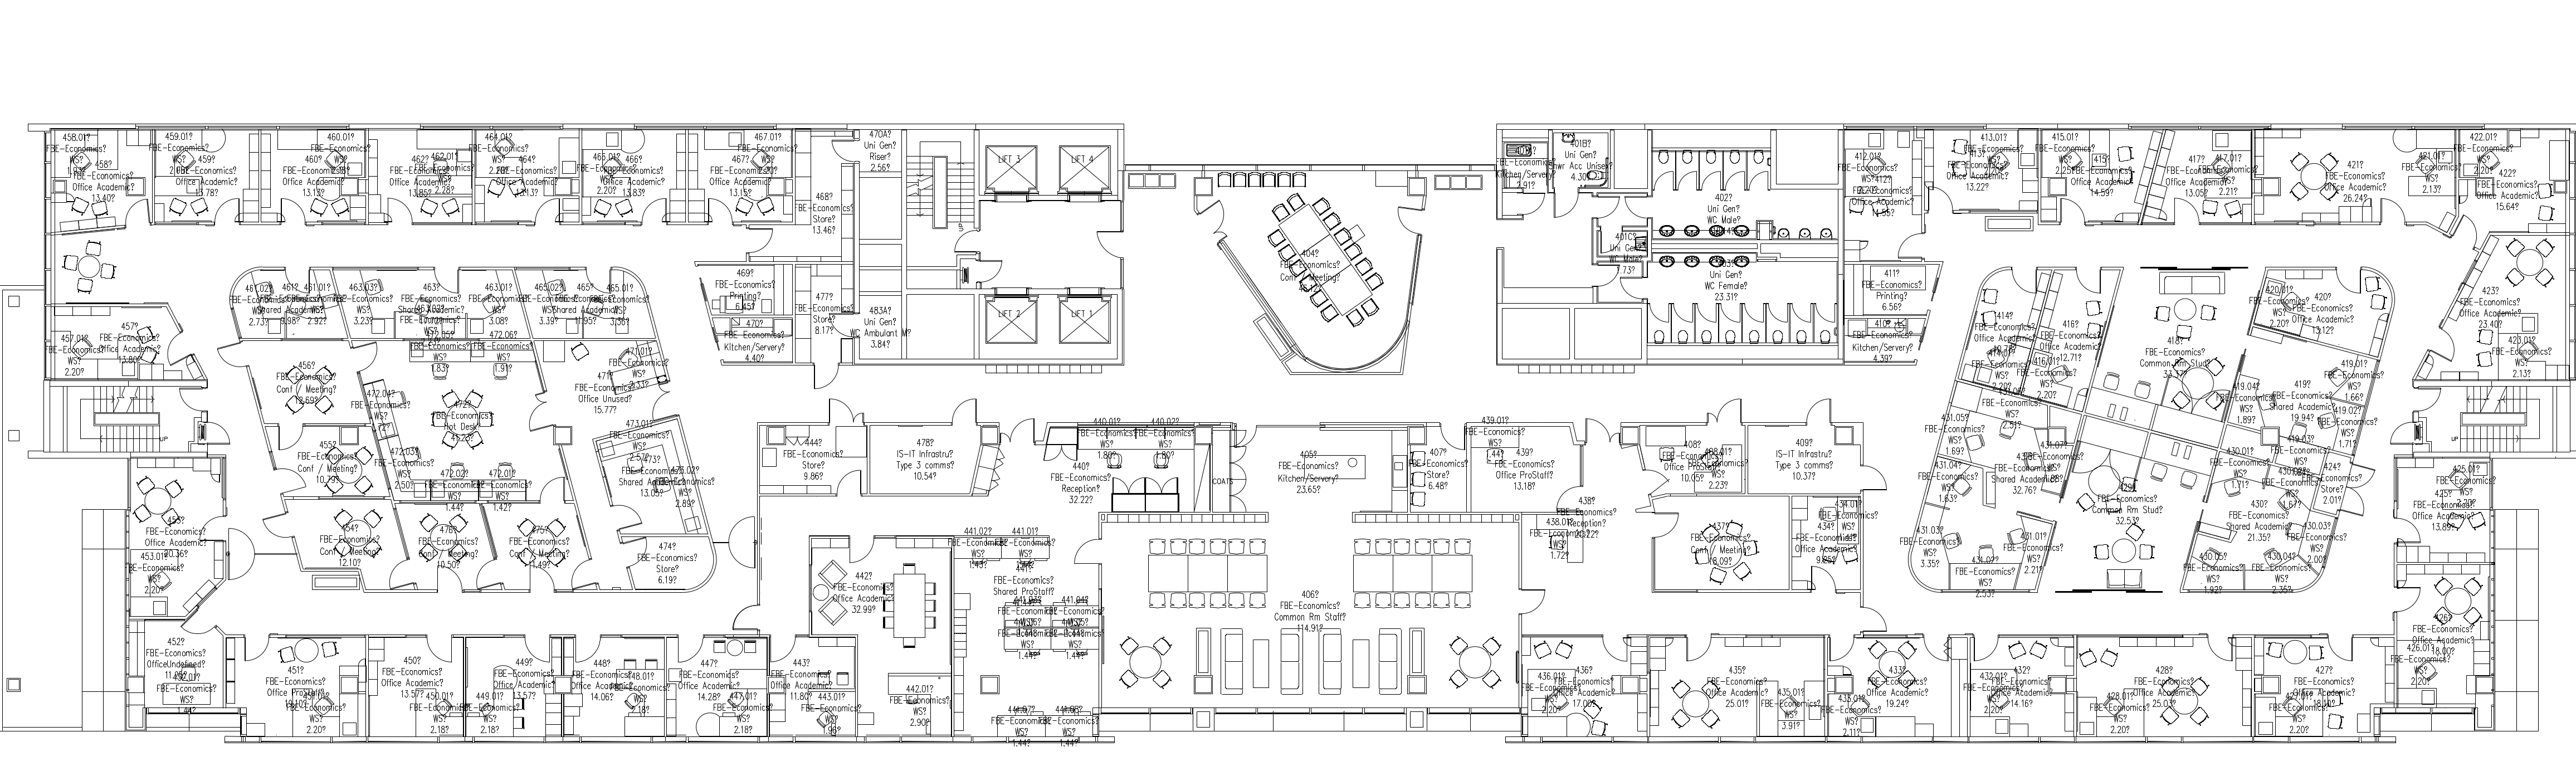room: (1074, 513, 1546, 713), (1124, 158, 1493, 376), (532, 337, 716, 593), (348, 339, 578, 503), (2083, 266, 2267, 449), (951, 536, 1102, 743), (808, 534, 954, 743), (2180, 450, 2354, 595), (2249, 123, 2461, 240), (2412, 232, 2569, 388), (2224, 324, 2380, 459), (1648, 635, 1827, 743), (1924, 378, 2085, 498), (2075, 635, 2256, 741), (1648, 248, 1842, 347), (1648, 148, 1842, 243), (1043, 416, 1232, 513), (126, 455, 228, 620), (1899, 501, 2067, 598), (1230, 421, 1408, 511), (2251, 635, 2397, 743), (1825, 635, 1970, 743), (1635, 495, 1792, 593), (225, 635, 368, 743), (2394, 562, 2495, 713), (591, 413, 716, 536), (2021, 266, 2124, 414), (263, 496, 419, 593), (330, 268, 534, 340), (1515, 635, 1649, 743), (1745, 396, 1888, 495), (217, 339, 375, 427), (2249, 266, 2395, 362), (2037, 123, 2167, 227), (1920, 123, 2040, 233), (2454, 123, 2569, 235), (1955, 266, 2054, 396), (43, 123, 156, 235), (1620, 398, 1748, 496), (153, 123, 261, 237), (1838, 123, 1924, 263), (56, 302, 210, 380), (2137, 123, 2254, 225), (685, 123, 795, 230), (1966, 635, 2077, 741), (260, 123, 368, 230), (562, 635, 669, 743), (664, 635, 770, 743), (580, 123, 688, 229), (473, 125, 583, 229), (1467, 416, 1584, 513), (366, 123, 475, 227), (480, 501, 601, 593), (757, 398, 871, 496), (979, 288, 1124, 365), (513, 266, 662, 340), (867, 399, 981, 496), (463, 635, 563, 743), (2394, 454, 2494, 562), (979, 130, 1119, 205), (365, 636, 465, 741), (391, 501, 506, 592), (2058, 413, 2150, 523), (263, 424, 393, 500), (1789, 493, 1881, 595), (228, 266, 350, 340), (130, 621, 225, 713), (1548, 123, 1615, 220), (1838, 260, 1950, 316), (2132, 431, 2218, 503), (1497, 123, 1557, 224), (618, 534, 716, 593), (693, 261, 795, 317), (1408, 422, 1470, 511), (767, 635, 858, 692), (2310, 450, 2380, 518), (1838, 314, 1929, 367), (767, 692, 858, 743), (1917, 454, 1996, 511), (708, 316, 795, 367), (54, 235, 123, 299), (2180, 531, 2246, 595), (854, 293, 913, 363), (854, 125, 907, 178), (1592, 217, 1653, 261)
